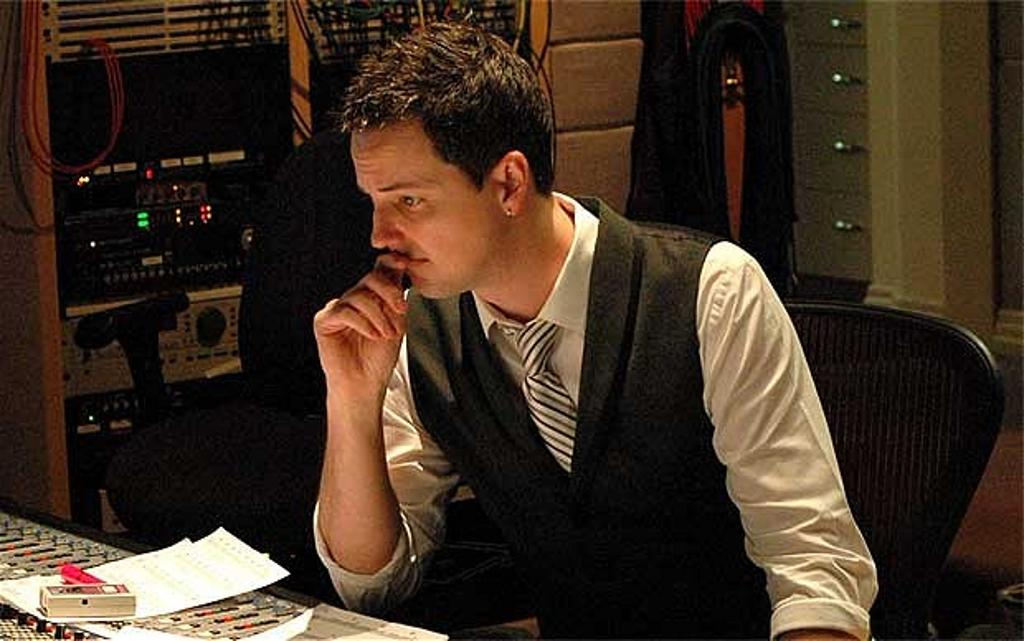face: (350, 118, 496, 292)
